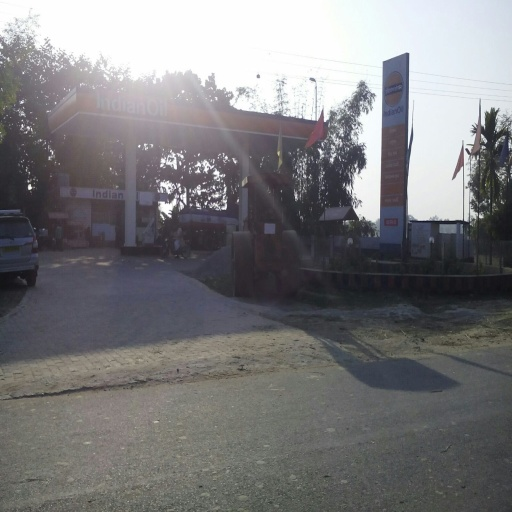roof: (47, 85, 325, 155)
